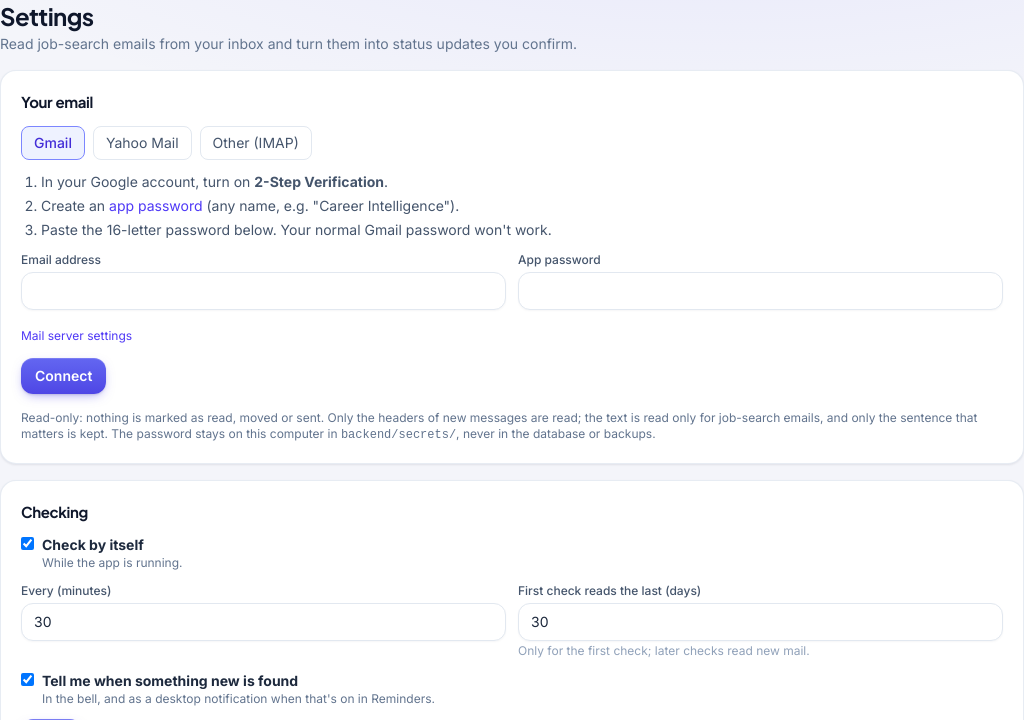
it: Settings → Email › connects with an app password, shows a refused login, and saves how often to check
In the field labelled "Email address": coordinates (264, 290) [21,272,506,310], type "me@gmail.com"
In the password field labelled "App password": coordinates (760, 290) [518,272,1003,310], type "abcd efgh ijkl mnop"
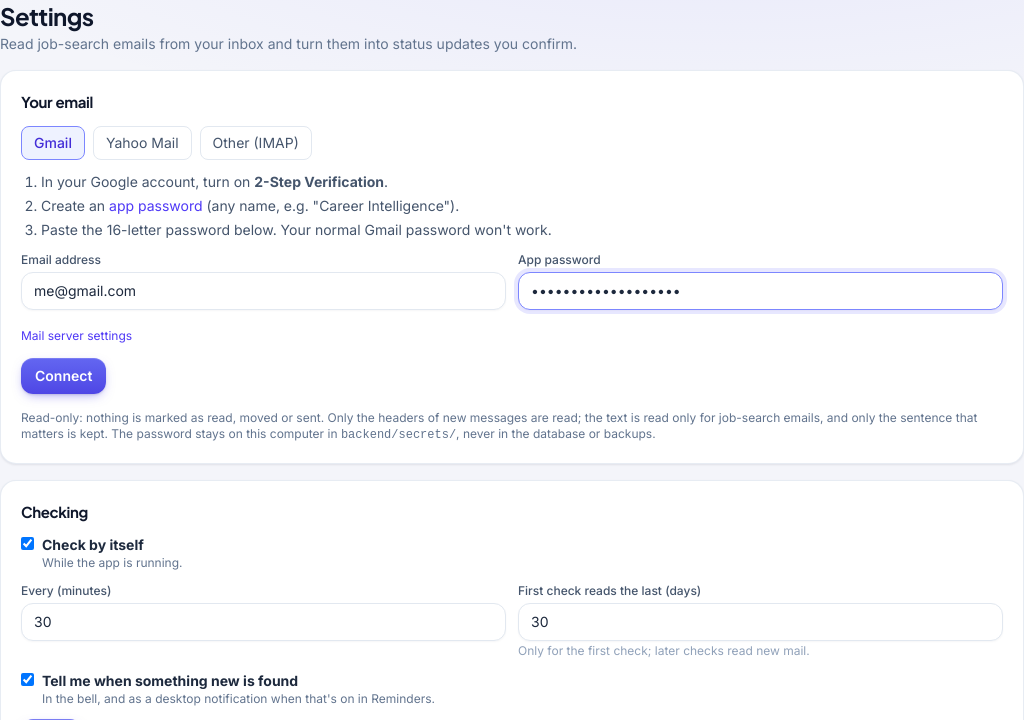
Click the button "Connect": coordinates (64, 376) [21,358,106,394]
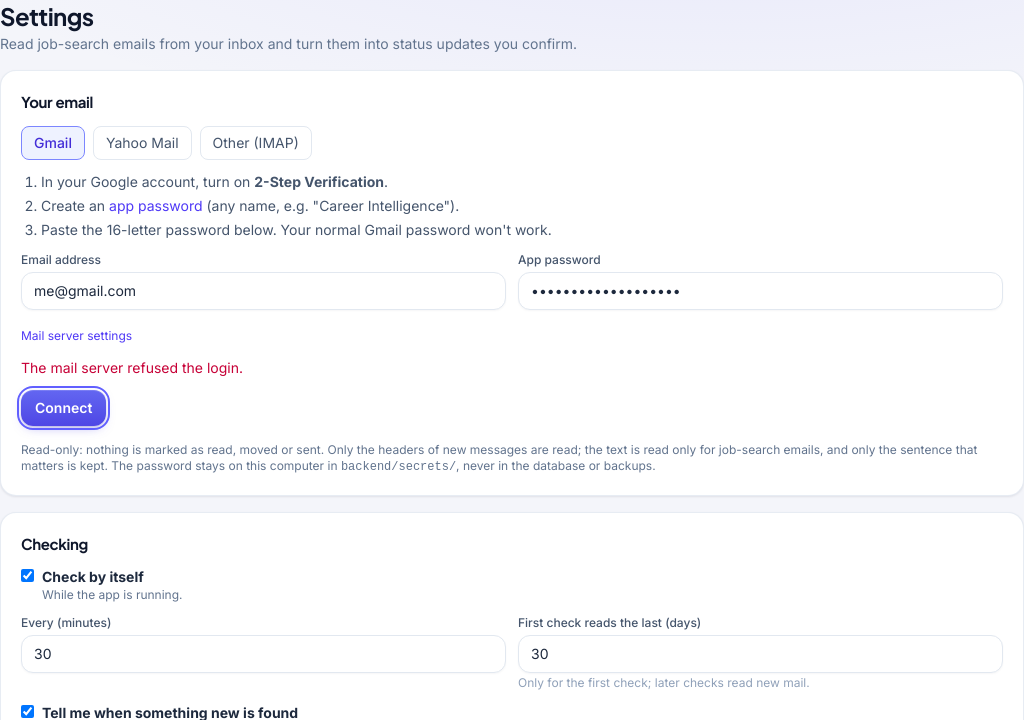
Result: the message shows "refused the login" at [21,358,243,376]
Click the button "Connect": coordinates (64, 408) [21,390,106,426]
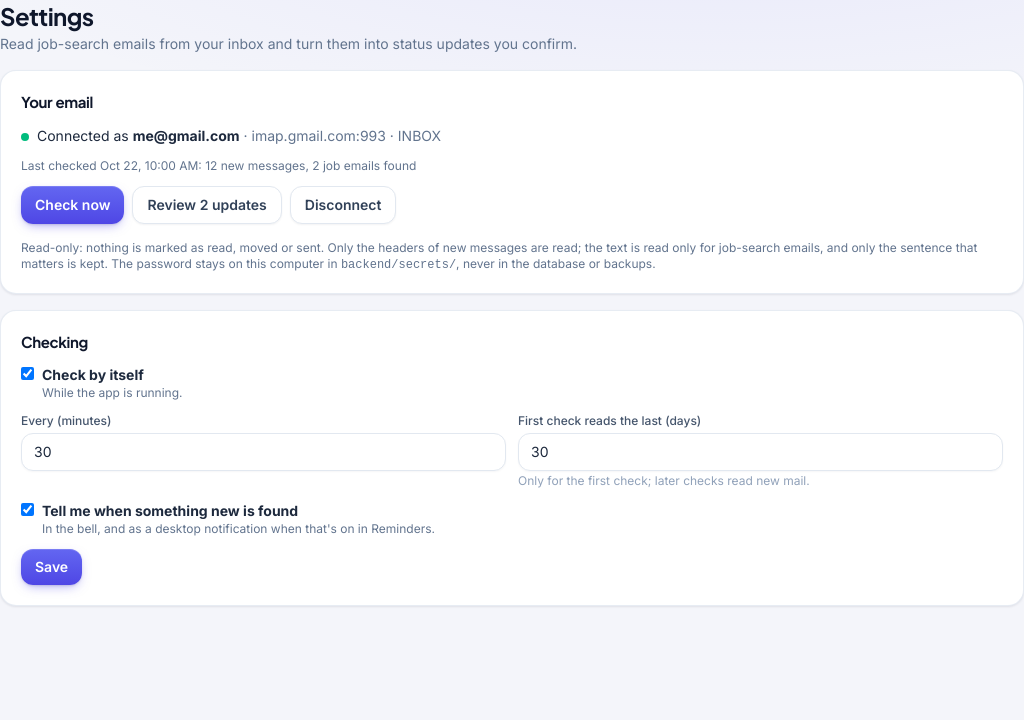
Result: the text "me@gmail.com" is shown at [133,126,240,144]
Result: the text "12 new messages, 2 job emails found" is shown at [21,158,416,172]
Replace the text in the number field labelled "Every (minutes)" with "15": coordinates (264, 452) [21,433,506,471]
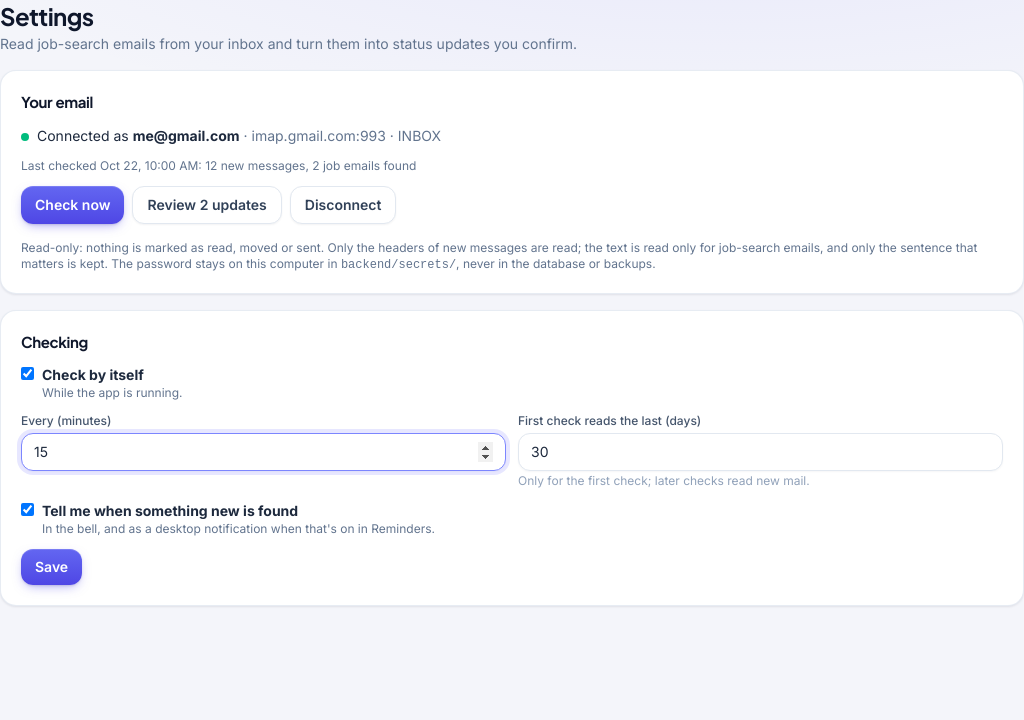
Click the button "Save": coordinates (52, 567) [21,549,82,585]
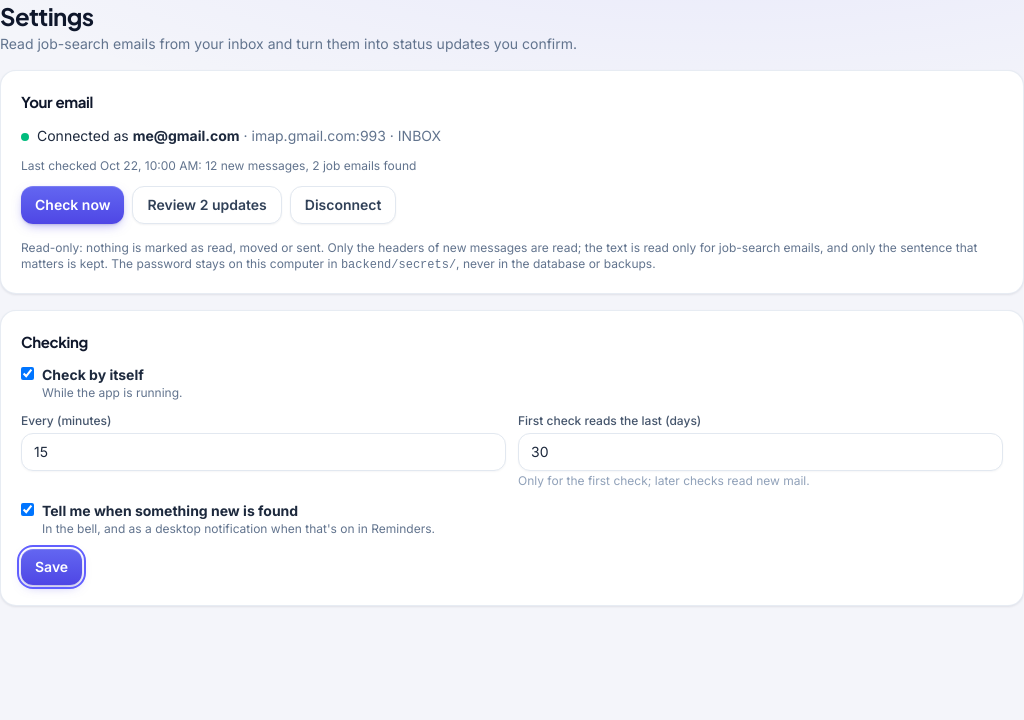
Note: Disconnect asks first (inline, no browser dialog).
Click the button "Disconnect": coordinates (343, 204) [290,186,396,224]
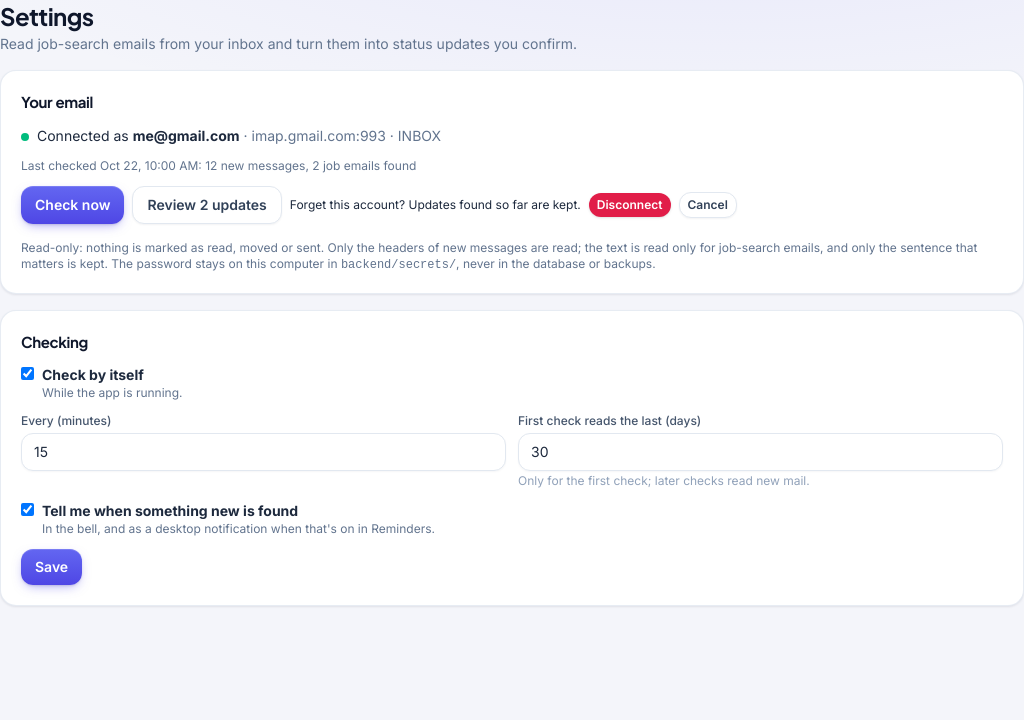
Result: the text "Forget this account?" is shown at [290,196,581,212]
